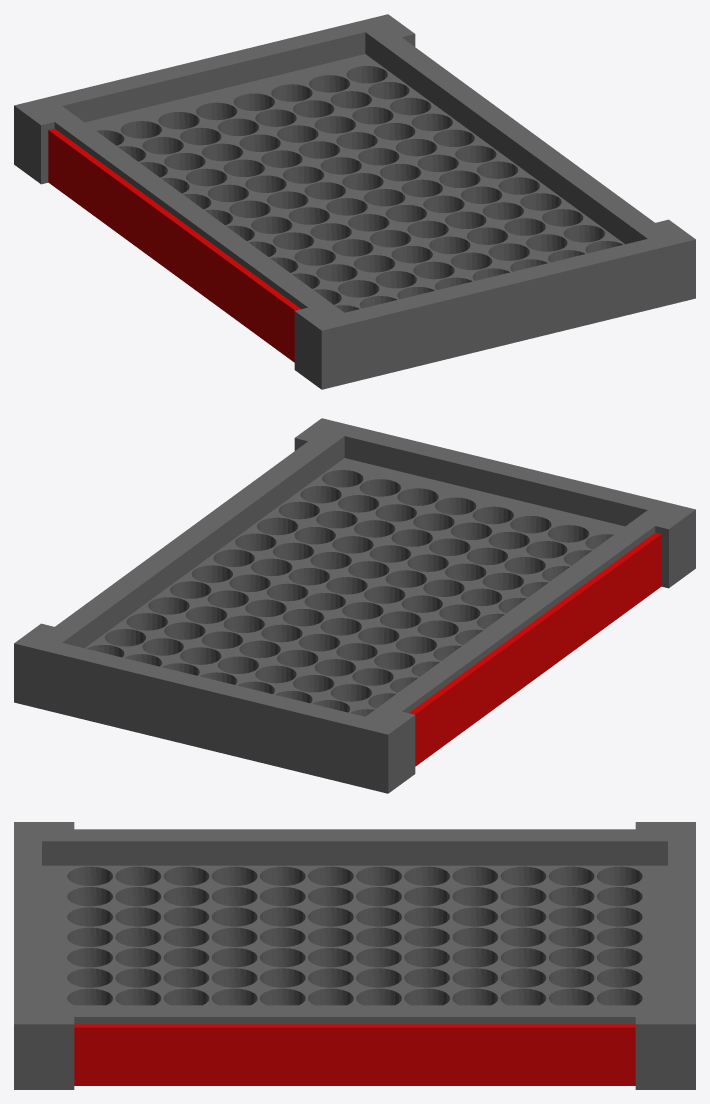
File: Rack - Downholder (Portrait).gltf
The picture shows the model from 3 angles, top to bottom: view 1: azimuth 30°, elevation 25°; view 2: azimuth 150°, elevation 25°; view 3: azimuth 270°, elevation 25°; orthographic projection. The views are drawn at different scales.
Visible parts, largest first — view 1: $dummy_node; view 2: $dummy_node; view 3: $dummy_node.
Boxes of the visible parts, x1,y1,x2,y2 form: $dummy_node: (14,14,695,389); $dummy_node: (14,418,695,793); $dummy_node: (14,822,695,1089).
Size of the model in its own units: 89.5 by 13.5 by 127.
